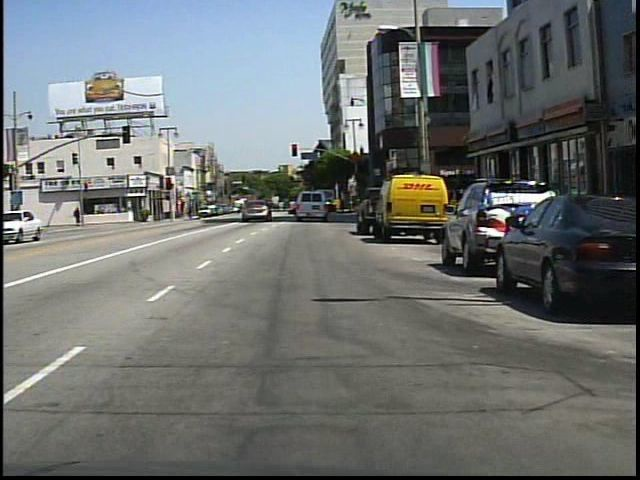person: (254, 193, 271, 222), (74, 205, 82, 226)
